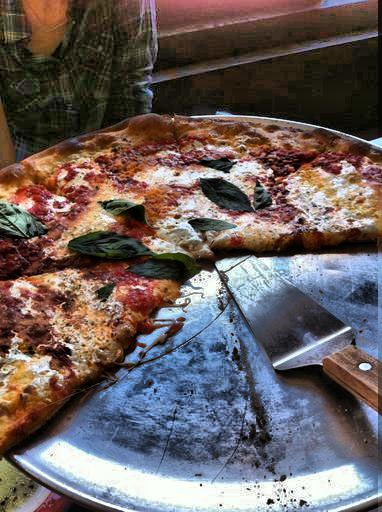pizza: (5, 105, 382, 464)
